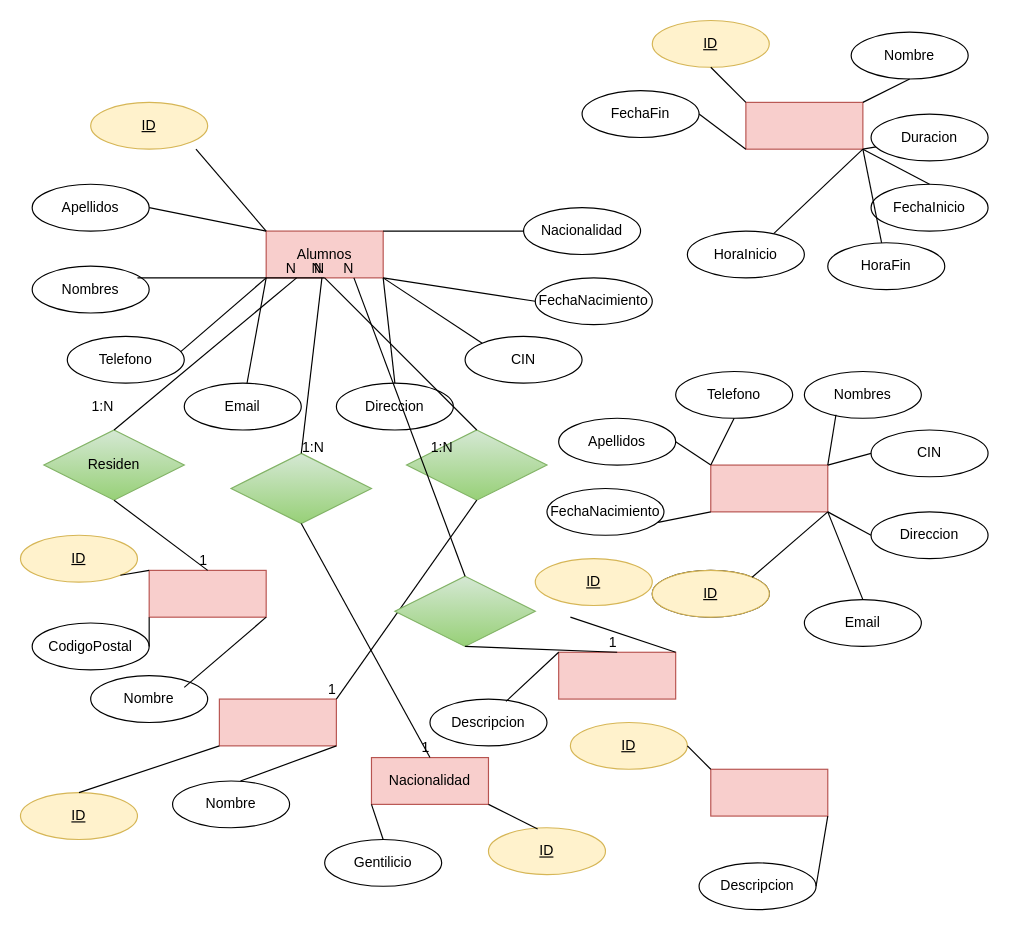
Image size: 1009x930. Some labels were removed from this diagram. The box of each missing label's shape, as (x1, y1, x2, y2) in pixels:
Barrio: (218, 698, 336, 746)
Ciudades: (148, 569, 266, 617)
Curso: (745, 101, 863, 149)
Profesores: (710, 464, 828, 512)
Sexo: (558, 651, 676, 699)
Tiene: (394, 575, 535, 646)
Tienen: (230, 452, 371, 524)
Turno: (710, 768, 828, 816)
Vive: (405, 429, 547, 500)
